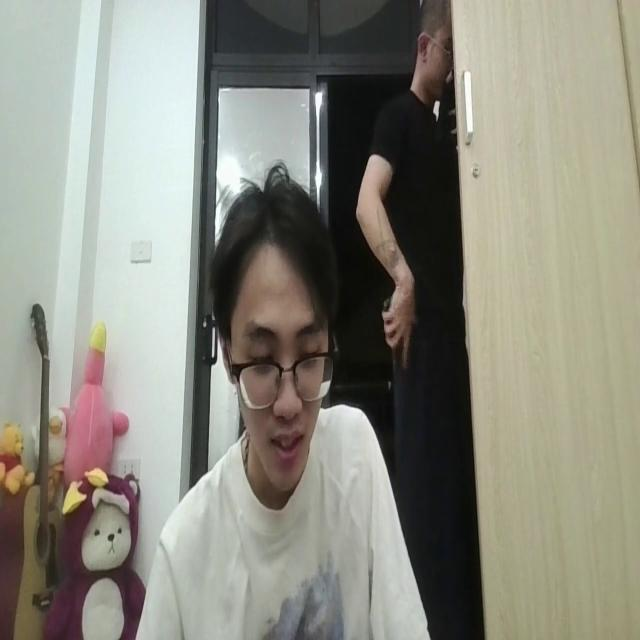extra_person: (360, 0, 488, 640)
student: (139, 161, 432, 640)
